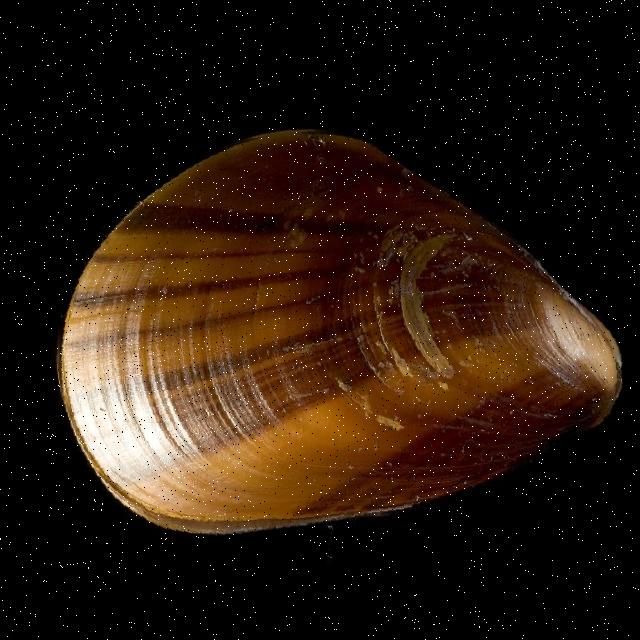Mytilus_galloprovincialis: (44, 114, 627, 538)
